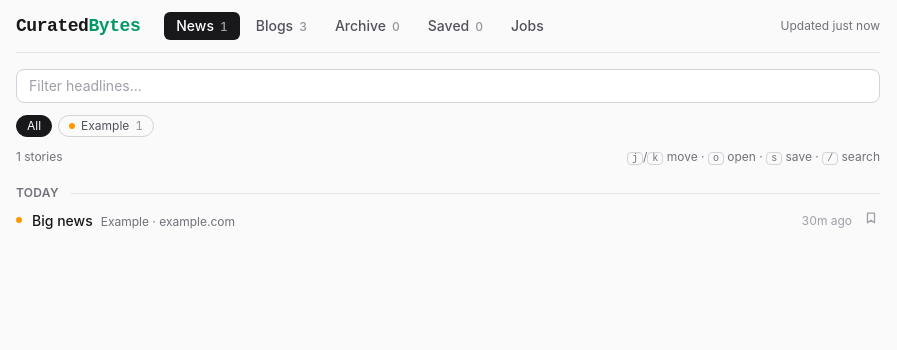
Scenario: lists blog posts on the Blogs tab, engineering blogs first, not on News
Expected: the link "Big news" is shown, [32,212,93,229]
Click the tab "Blogs3". click: [281, 26]
box: [244,12,319,40]
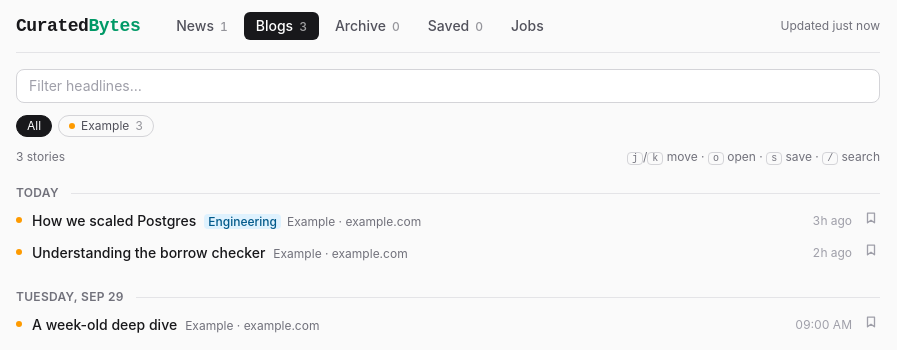
Expected: the tab "Archive0" is shown, [323,12,412,40]
Now the text "Engineering" is shown once, box [204,214,281,229]
Now the headings read "Today", "Tuesday, Sep 29", in this order, box [16,185,59,200]; [16,289,124,304]
